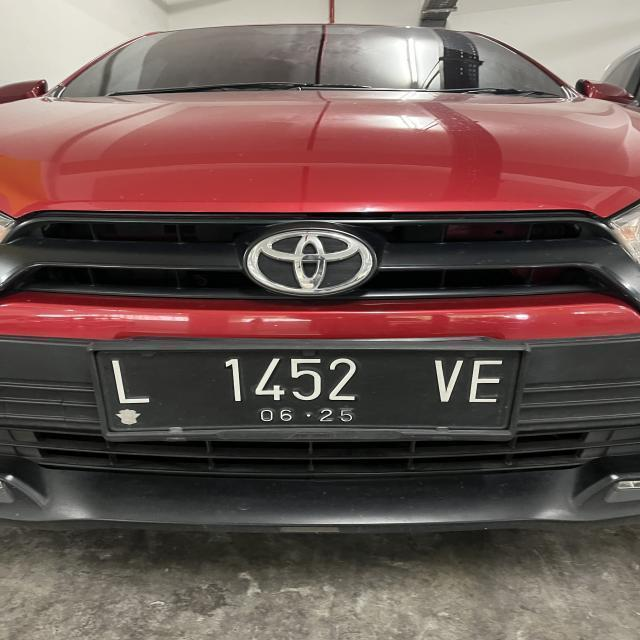1: (216, 356, 249, 401)
2: (329, 354, 354, 406)
4: (253, 359, 286, 402)
5: (292, 354, 324, 402)
E: (468, 356, 496, 406)
L: (101, 356, 156, 409)
V: (430, 353, 462, 406)
